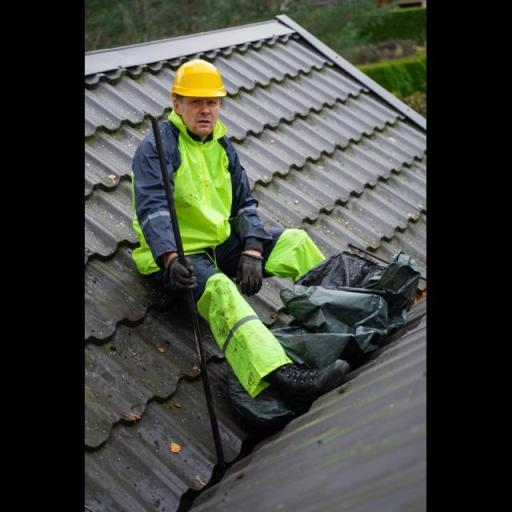Person: (118, 41, 366, 428)
boots: (262, 360, 356, 404)
gloves: (225, 250, 265, 296), (162, 254, 200, 292)
helmet: (168, 57, 234, 100)
